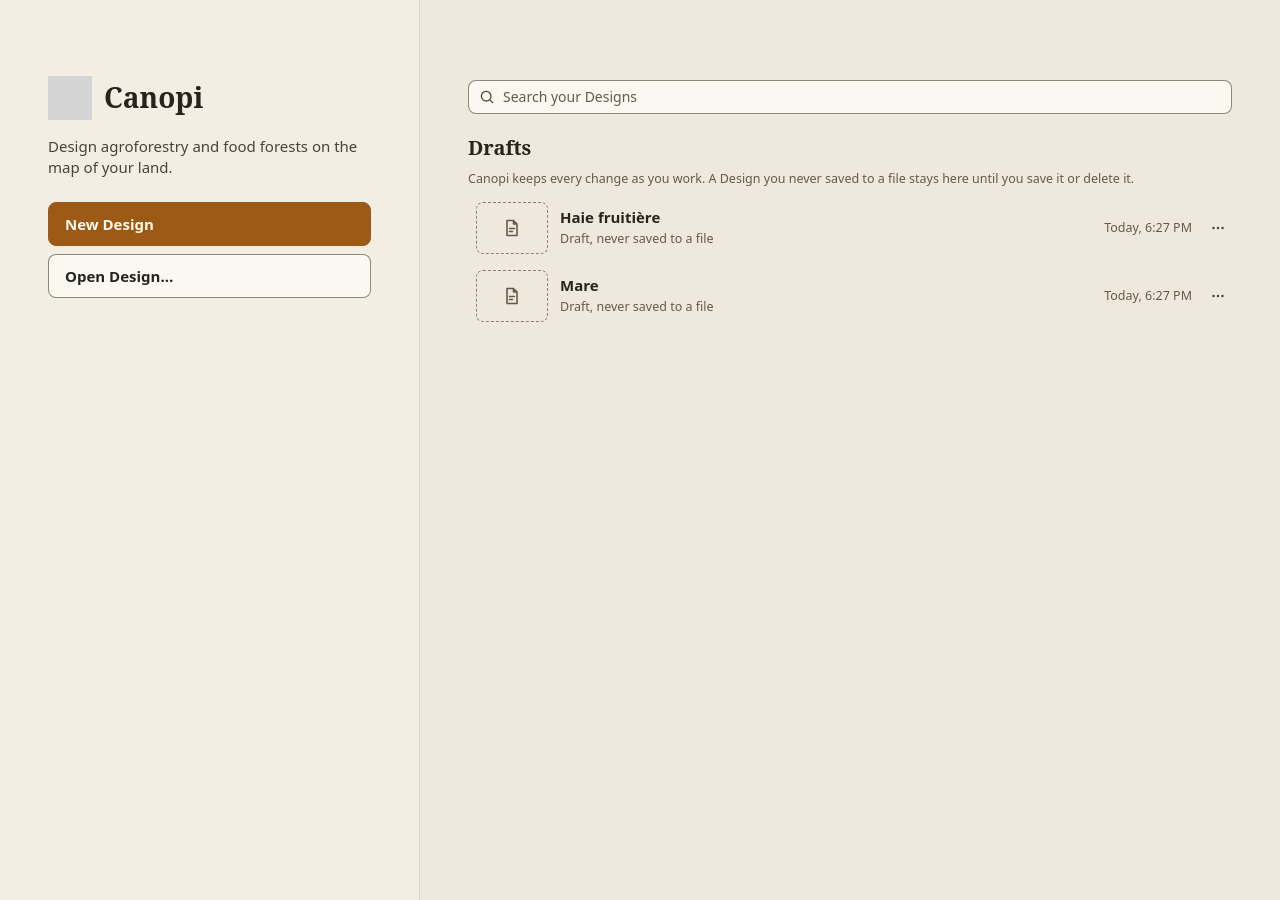
it: StartScreen › searches Designs and Drafts, ignoring accents and case
The image size is (1280, 900).
Type "FRUITIERE" into the search field with placeholder "Search your Designs" at (862, 97), box top-left (503, 87), bottom-right (1221, 107)
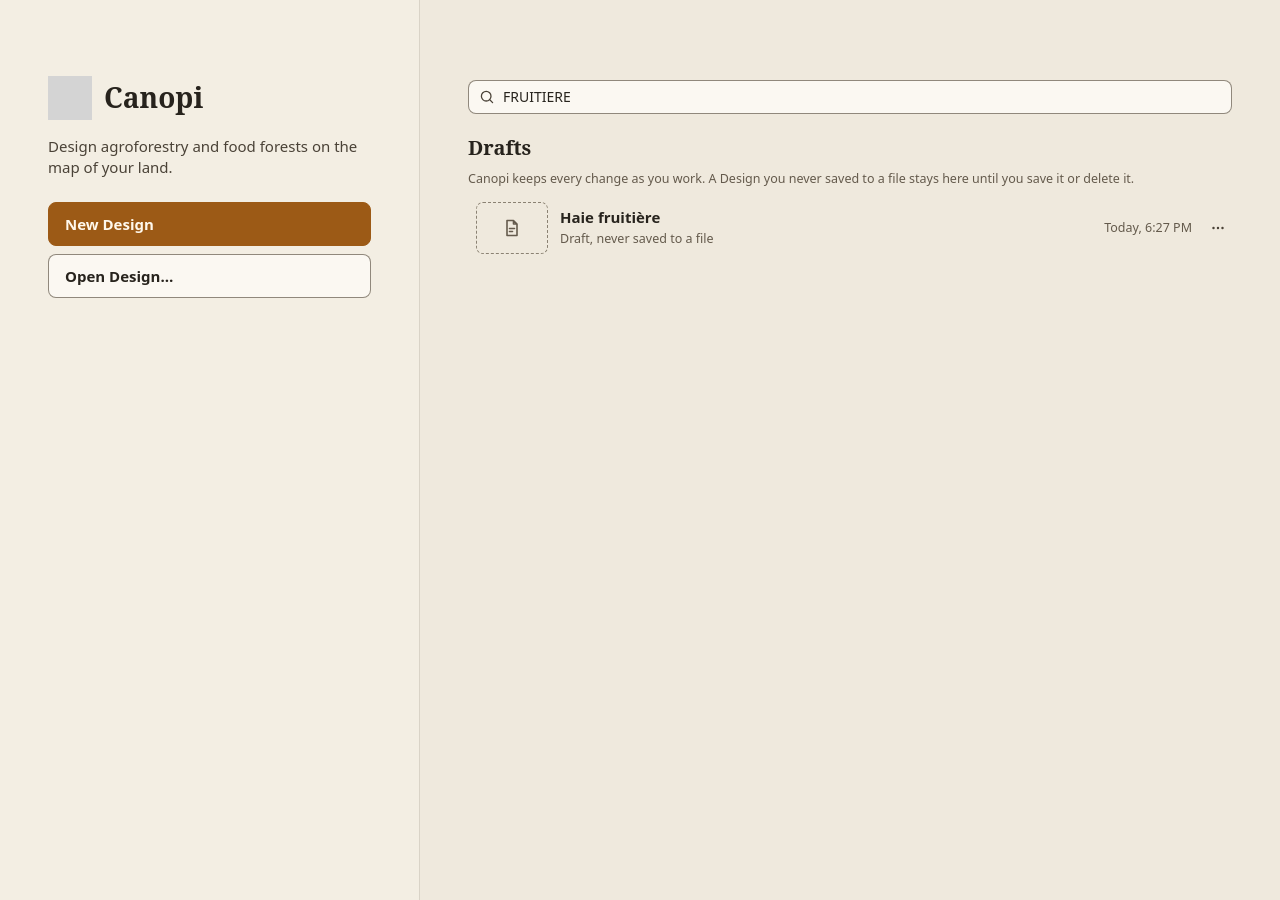
Expected: the text "Haie fruitière" is shown, top-left (560, 207), bottom-right (660, 227)
Expected: the text "Mare" is gone
Replace the text in the search field named "Search your Designs" with "zzz" at (862, 97), box top-left (503, 87), bottom-right (1221, 107)
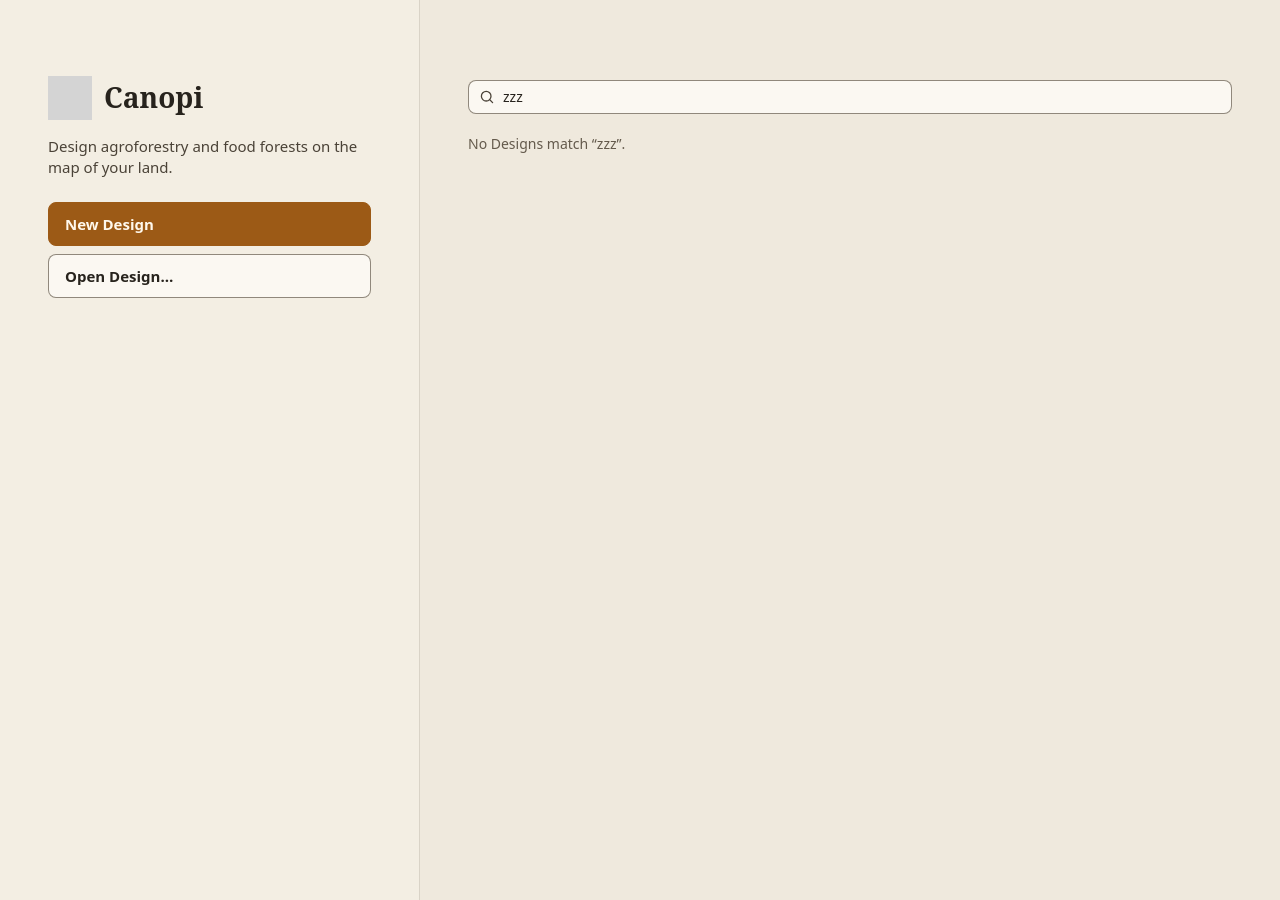
Expected: the message "No Designs match “zzz”." is shown, top-left (468, 134), bottom-right (625, 153)
